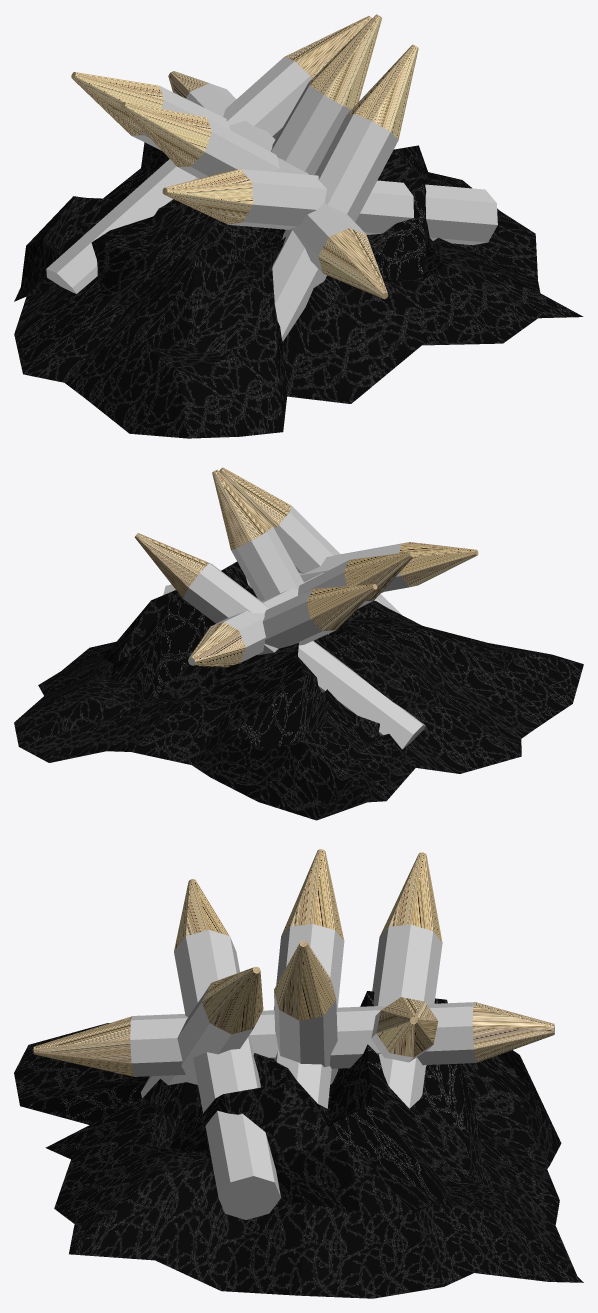
The model's file is spiketrap.fbx.
3 renders of one model, top to bottom at view 1: azimuth 30°, elevation 25°; view 2: azimuth 150°, elevation 25°; view 3: azimuth 270°, elevation 25°, orthographic. The views are drawn at different scales.
Visible parts, largest first — view 1: Plane, Cylinder, Cylinder.005, Cylinder.003, Cylinder.006, Cylinder.004, Cylinder.001, Cylinder.002; view 2: Plane, Cylinder.003, Cylinder.004, Cylinder.002, Cylinder.005, Cylinder.006, Cylinder, Cylinder.001; view 3: Plane, Cylinder.006, Cylinder, Cylinder.002, Cylinder.001, Cylinder.004, Cylinder.005, Cylinder.003.
Boxes of the visible parts, x1,y1,x2,y2 form: Plane: [14, 142, 583, 438]; Cylinder: [162, 169, 497, 245]; Cylinder.005: [272, 44, 418, 341]; Cylinder.003: [46, 16, 371, 293]; Cylinder.006: [168, 71, 388, 299]; Cylinder.004: [271, 14, 381, 175]; Cylinder.001: [120, 102, 279, 178]; Cylinder.002: [71, 72, 229, 150]; Plane: [14, 561, 583, 820]; Cylinder.003: [134, 533, 425, 749]; Cylinder.004: [212, 469, 328, 634]; Cylinder.002: [262, 584, 377, 648]; Cylinder.005: [219, 467, 402, 615]; Cylinder.006: [188, 548, 383, 667]; Cylinder: [163, 542, 478, 594]; Cylinder.001: [298, 551, 414, 608]; Plane: [14, 991, 583, 1298]; Cylinder.006: [33, 1002, 554, 1076]; Cylinder: [174, 879, 280, 1219]; Cylinder.002: [372, 852, 442, 1108]; Cylinder.001: [274, 849, 344, 1108]; Cylinder.004: [274, 940, 338, 1084]; Cylinder.005: [140, 966, 263, 1097]; Cylinder.003: [371, 997, 438, 1062].
Size of the model in its own units: 801 by 489 by 712.
